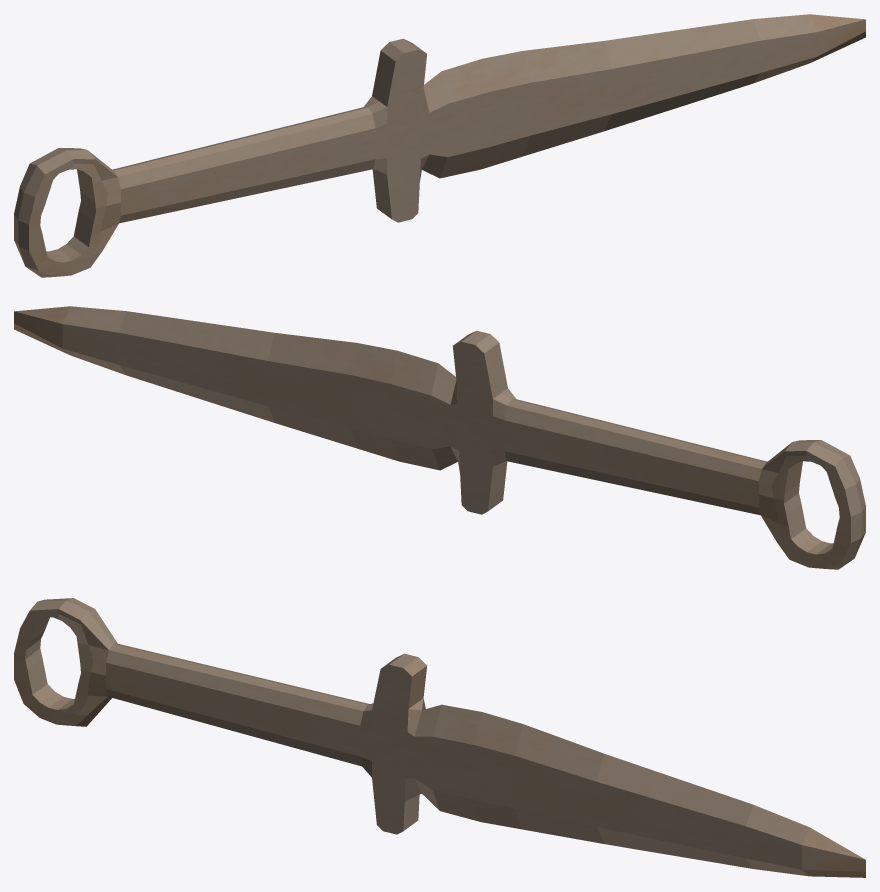
Rendered from BronzeAgeDagger.fbx.
3 renders of one model, top to bottom at view 1: azimuth 30°, elevation 25°; view 2: azimuth 150°, elevation 25°; view 3: azimuth 330°, elevation 25°, orthographic.
Visible parts, largest first — view 1: BronzeAgeDagger; view 2: BronzeAgeDagger; view 3: BronzeAgeDagger.
Boxes of the visible parts, x1=… form: BronzeAgeDagger: x1=14, y1=14, x2=865, y2=277; BronzeAgeDagger: x1=14, y1=306, x2=865, y2=569; BronzeAgeDagger: x1=14, y1=598, x2=865, y2=877.
Bounding box in the file's own units: 909 × 172 × 28.05.
